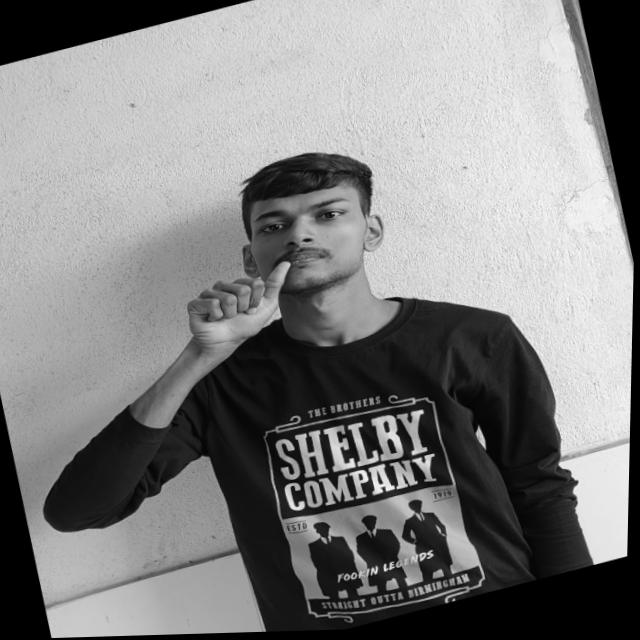Drink: (173, 253, 308, 356)
